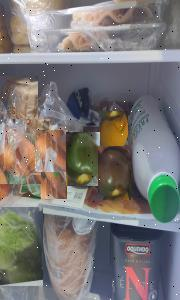Leche: (128, 94, 180, 223)
Lechuga/Endivia: (0, 207, 43, 286)
Limón: (99, 112, 128, 156)
Pan de sandwich: (0, 76, 38, 158)
Tomate: (66, 132, 100, 186), (98, 146, 131, 200)
Zanahoria: (0, 119, 50, 184), (35, 130, 69, 172), (41, 150, 67, 199), (1, 178, 13, 198)
